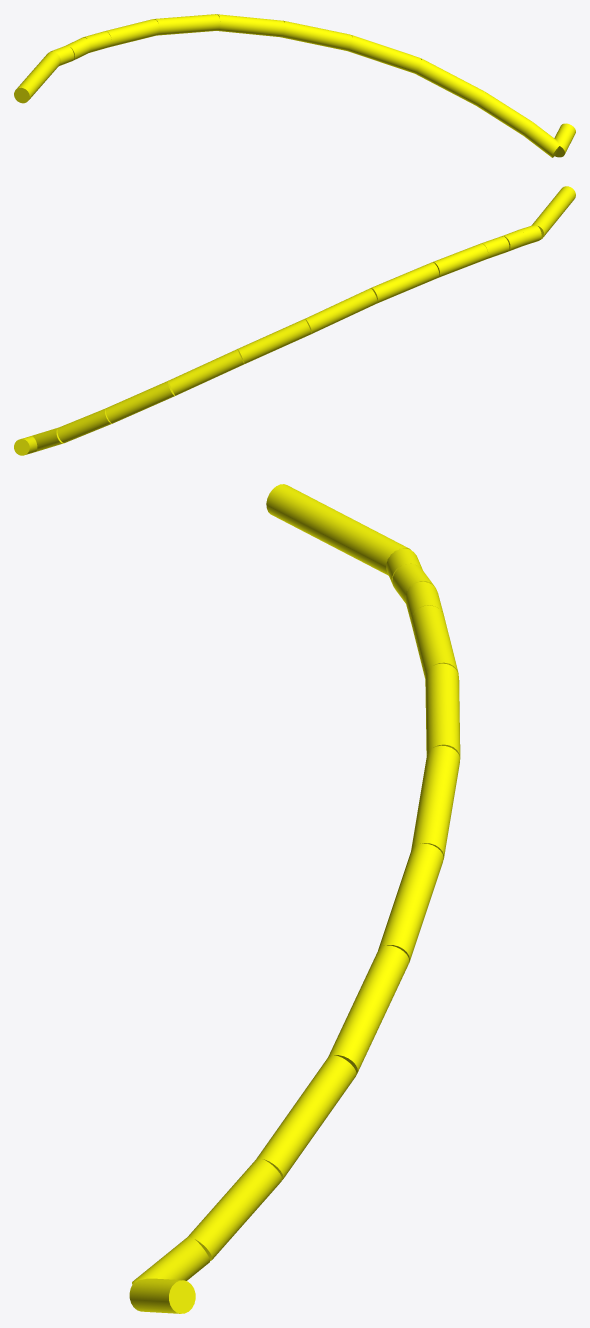
The picture shows the model from 3 angles, top to bottom: view 1: azimuth 30°, elevation 25°; view 2: azimuth 210°, elevation 25°; view 3: azimuth 270°, elevation 25°; orthographic projection. The views are drawn at different scales.
Parts seen in each view (by area): view 1: Cylinder(Clone) (×13); view 2: Cylinder(Clone) (×11); view 3: Cylinder(Clone) (×10).
Part boxes in pixels (left/top/right/bottom): Cylinder(Clone) (×13): left=14, top=14, right=575, bottom=157; Cylinder(Clone) (×11): left=14, top=186, right=575, bottom=455; Cylinder(Clone) (×10): left=129, top=484, right=460, bottom=1313.
Bounding box in the file's own units: 0.3635 × 0.1097 × 0.0979.
